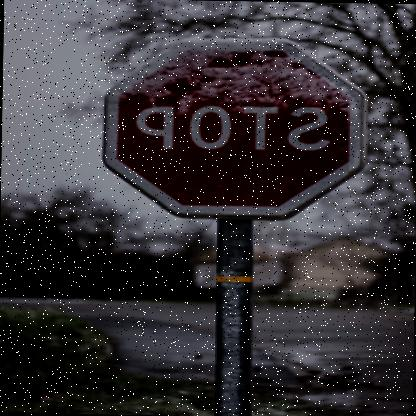stop: (102, 33, 374, 218)
